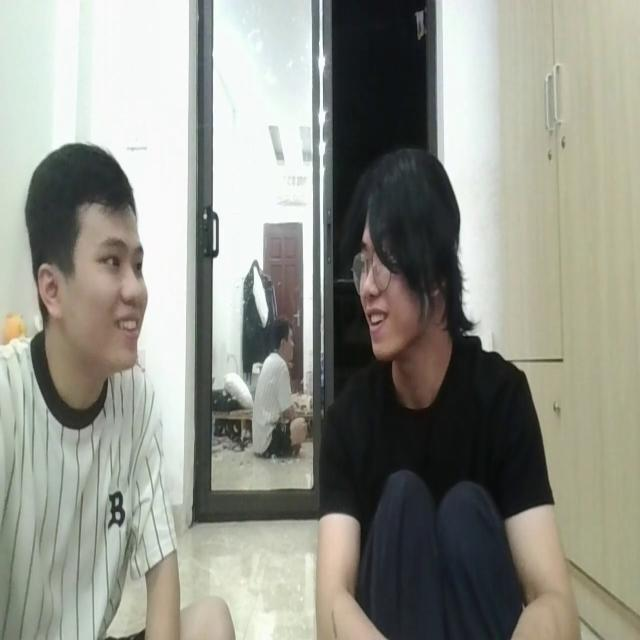extra_person: (1, 130, 231, 640), (254, 310, 304, 456)
student: (318, 142, 574, 640)
